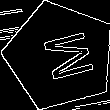M_W: (28, 27, 91, 85)
